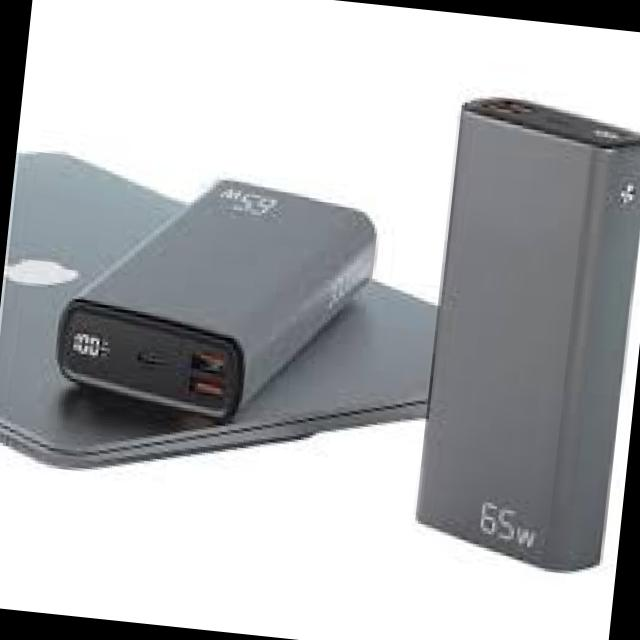power_bank: (405, 89, 640, 578), (48, 159, 384, 431)
